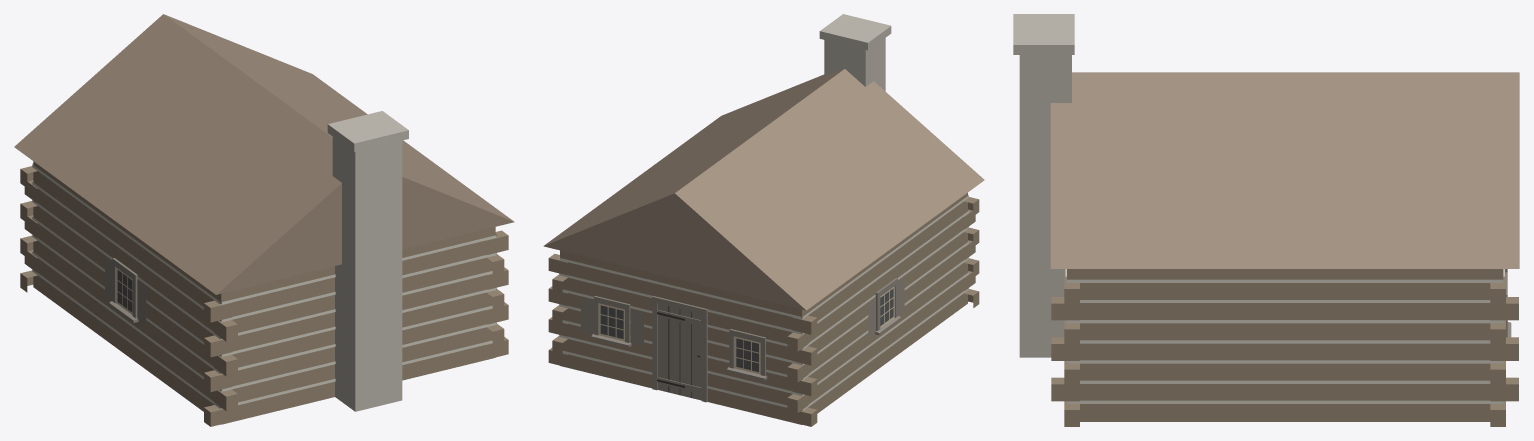
Rendered from recon_1835_blk_randolph_clinton_d1_03__inferred_1835.glb.
3 renders of one model, left to right at view 1: azimuth 30°, elevation 25°; view 2: azimuth 150°, elevation 25°; view 3: azimuth 270°, elevation 25°, orthographic. The views are drawn at different scales.
Visible parts, largest first — view 1: recon_1835_blk_randolph_clinton_d1_03__inferred_1835; view 2: recon_1835_blk_randolph_clinton_d1_03__inferred_1835; view 3: recon_1835_blk_randolph_clinton_d1_03__inferred_1835.
Boxes of the visible parts, bbox=[...] form: recon_1835_blk_randolph_clinton_d1_03__inferred_1835: bbox=[14, 14, 514, 426]; recon_1835_blk_randolph_clinton_d1_03__inferred_1835: bbox=[543, 14, 984, 426]; recon_1835_blk_randolph_clinton_d1_03__inferred_1835: bbox=[1013, 14, 1519, 426].
Bounding box in the file's own units: 6.11 × 5.3 × 7.73.
